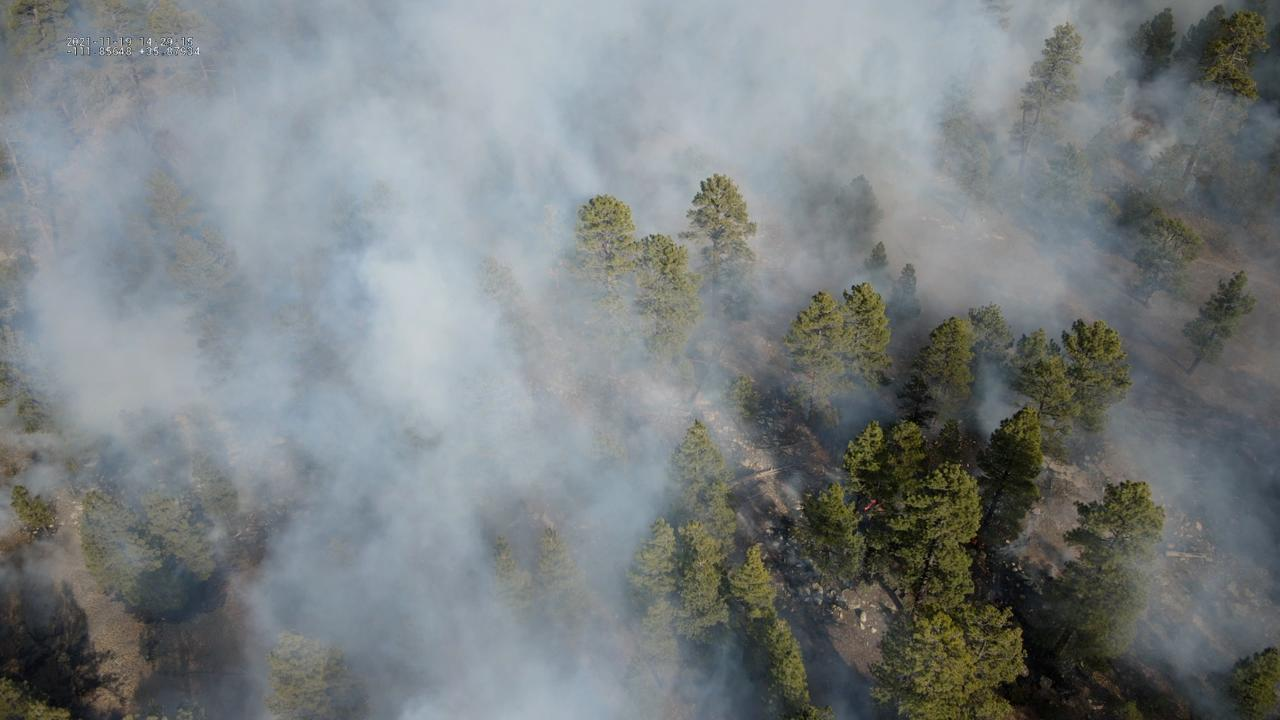fire: (863, 498, 878, 514)
smoke: (0, 0, 1280, 720)
